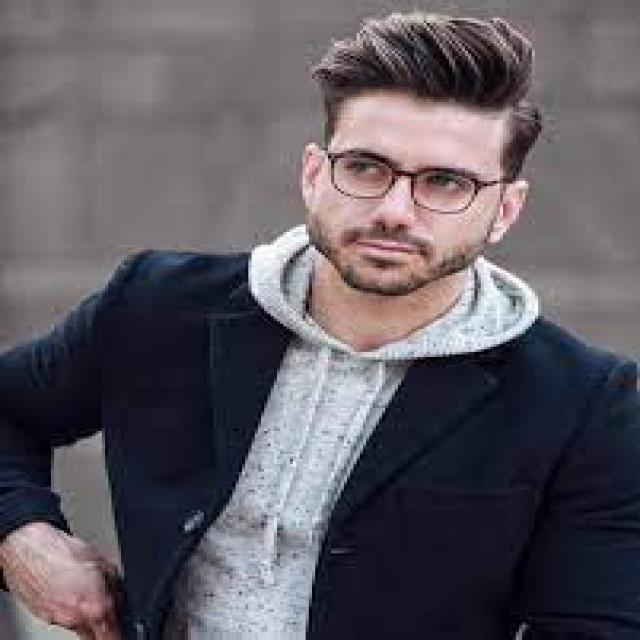Glasses: (321, 144, 506, 218)
